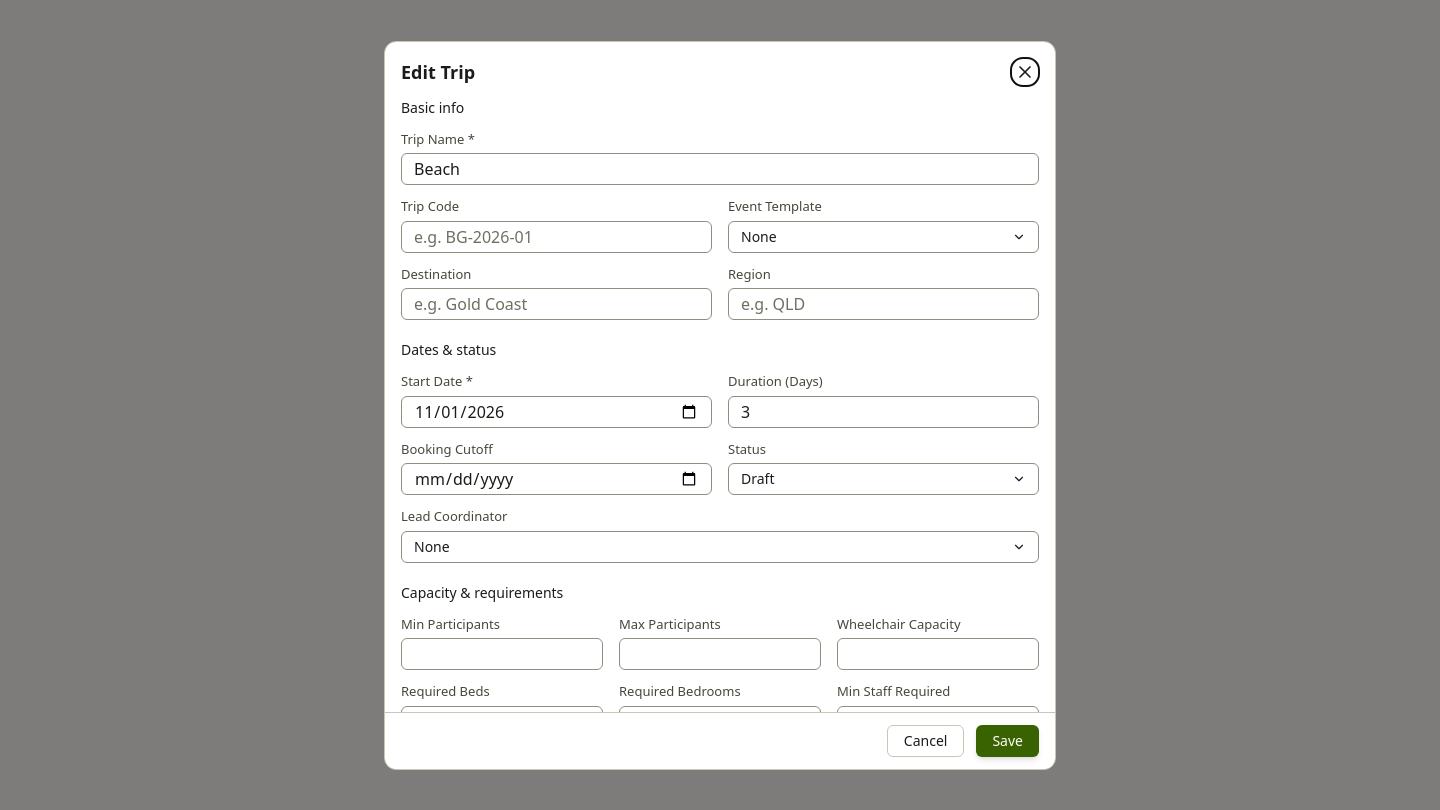
Test: EditTripModal — what Save refuses › refuses an empty start date with a field error
The image size is (1440, 810).
Clear the date field labelled "Start Date *" at point(556, 412), box [401, 396, 712, 428]
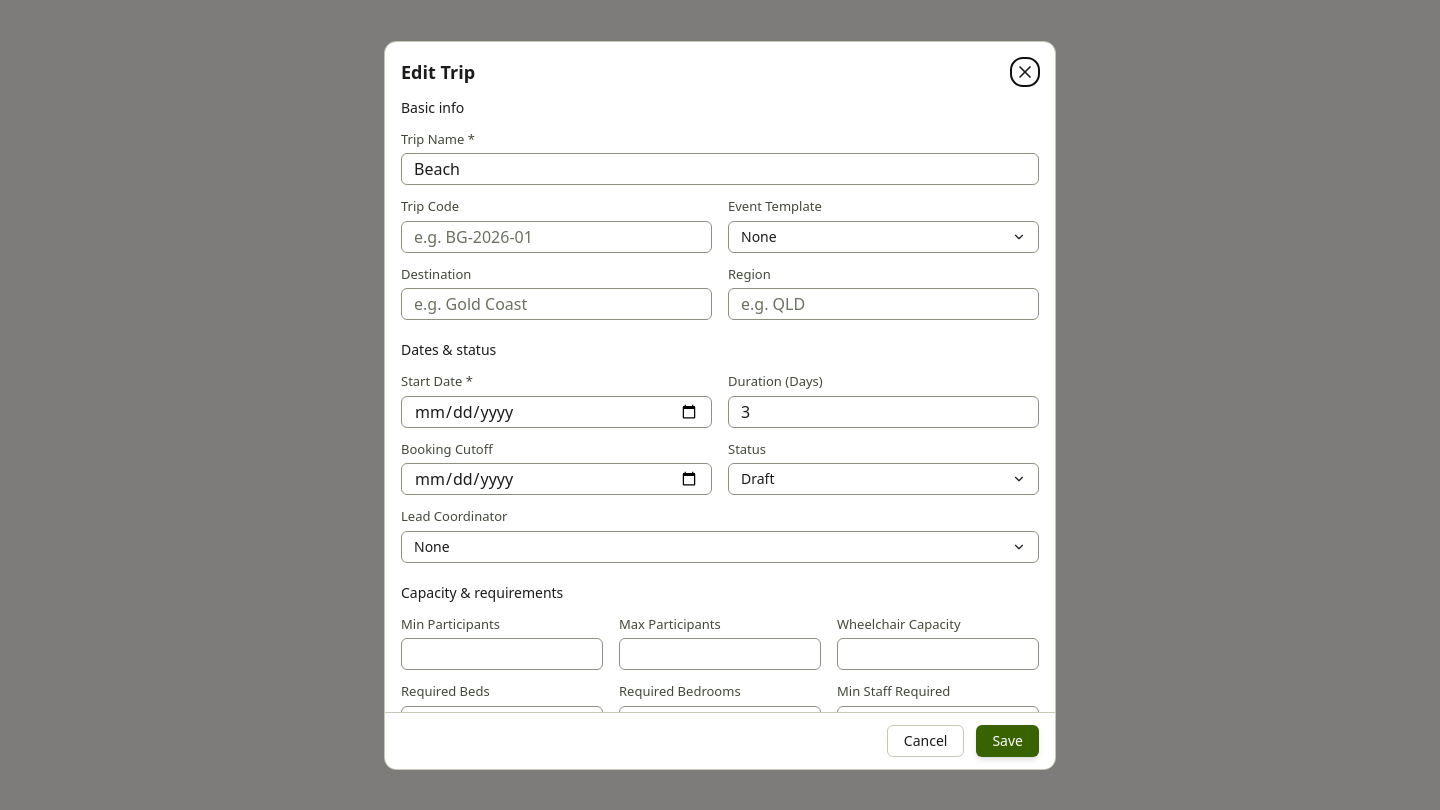
Click the button "Save" at point(1008, 740), box [976, 724, 1039, 756]
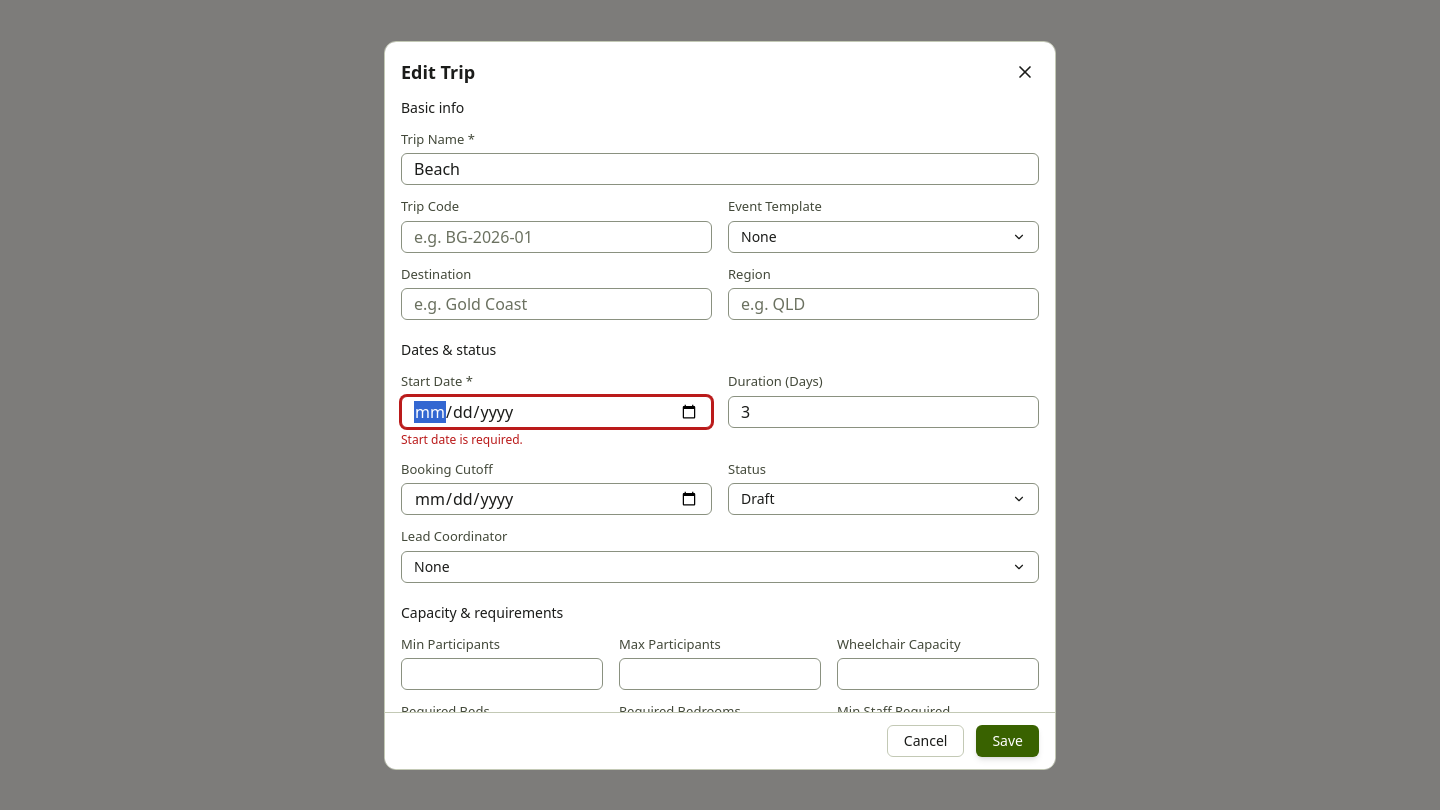
Now the message reads "Start date is required.", box [401, 430, 523, 448]
